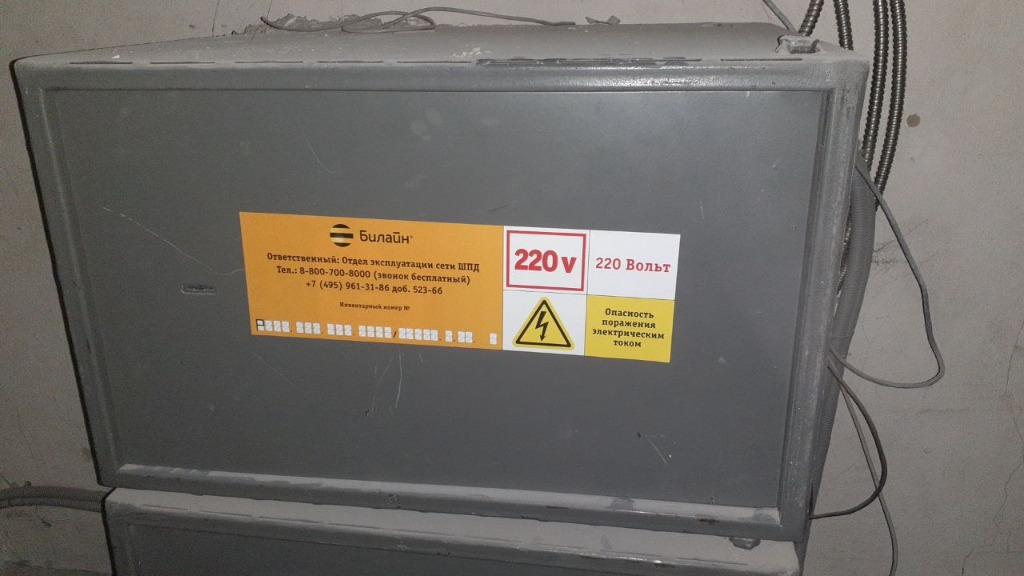e2-6u: (12, 22, 876, 549)
